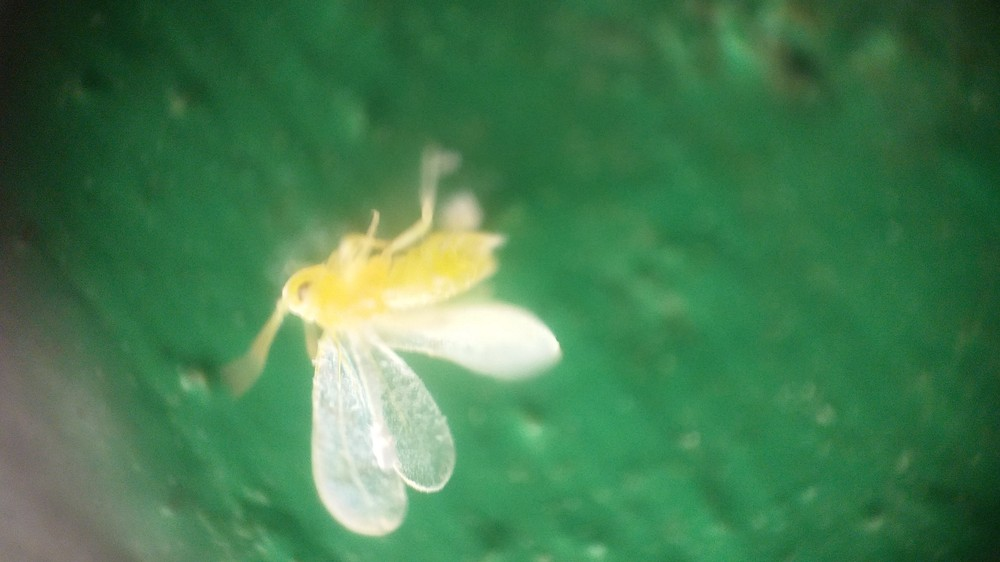Mosca Blanca: (217, 145, 583, 544)
